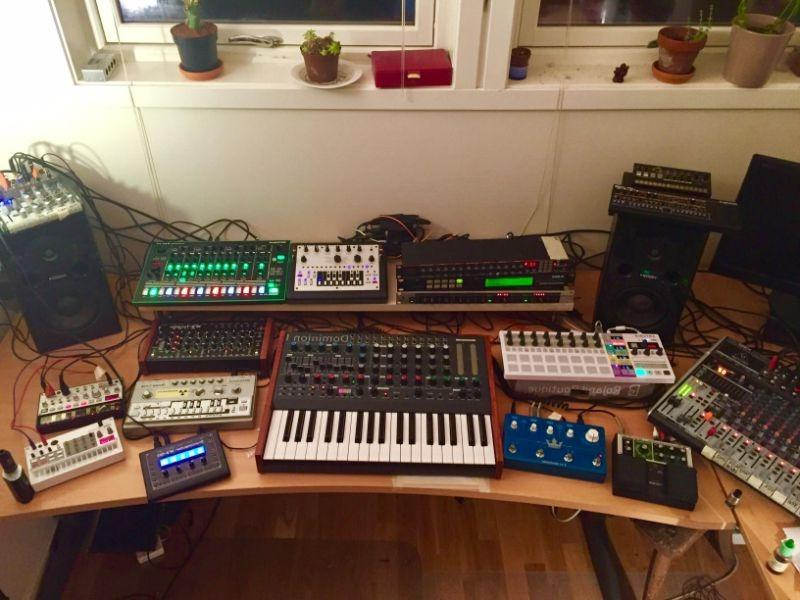synthesizer: (264, 331, 499, 475)
